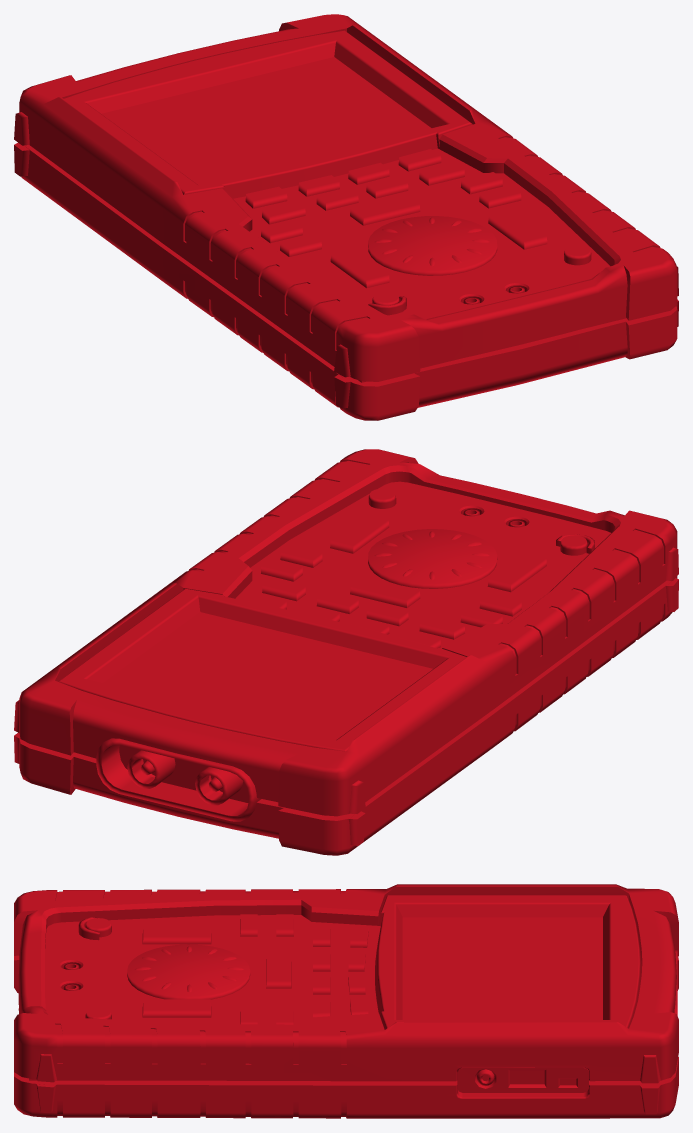
3 views of the same model, one above another, from view 1: azimuth 30°, elevation 25°; view 2: azimuth 150°, elevation 25°; view 3: azimuth 270°, elevation 25° (orthographic). The views are drawn at different scales.
Visible parts, largest first — view 1: Cube.033, Cube.036, Cube.043, Cube.037, Cube.042, Cylinder.010, Cube.044, Cube.035, Cylinder.011; view 2: Cube.033, Cube.036, Cube.043, Cube.037, Cube.042, Cylinder.010, Cube.038, Cylinder.006, Cube.040, Cube.044, Cube.035, Cylinder.011; view 3: Cube.033, Cube.036, Cube.043, Cube.037, Cube.042, Cylinder.010, Cube.044, Cube.035, Cylinder.011, Cylinder.008.
Boxes of the visible parts, x1,y1,x2,y2 form: Cube.033: (19, 14, 677, 381); Cube.036: (64, 30, 472, 198); Cube.043: (21, 145, 677, 420); Cube.037: (233, 148, 610, 319); Cube.042: (245, 149, 547, 288); Cylinder.010: (368, 216, 497, 275); Cube.044: (14, 143, 678, 408); Cube.035: (14, 112, 678, 377); Cylinder.011: (372, 245, 591, 305); Cube.033: (19, 449, 677, 816); Cube.036: (58, 589, 466, 751); Cube.043: (19, 576, 677, 855); Cube.037: (235, 481, 610, 648); Cube.042: (245, 514, 546, 648); Cylinder.010: (368, 529, 497, 588); Cube.038: (96, 738, 260, 821); Cylinder.006: (127, 750, 243, 805); Cube.040: (119, 745, 248, 802); Cube.044: (14, 578, 678, 845); Cube.035: (14, 547, 678, 813); Cylinder.011: (368, 488, 587, 555); Cube.033: (14, 884, 678, 1081); Cube.036: (375, 895, 641, 1029); Cube.043: (14, 955, 678, 1118); Cube.037: (45, 915, 380, 1024); Cube.042: (142, 914, 368, 1024); Cylinder.010: (127, 944, 250, 999); Cube.044: (36, 1084, 660, 1114); Cube.035: (36, 1054, 660, 1083); Cylinder.011: (85, 918, 111, 1019); Cylinder.008: (135, 946, 243, 992).
Bounding box in the file's own units: 1.13 × 0.3641 × 2.
